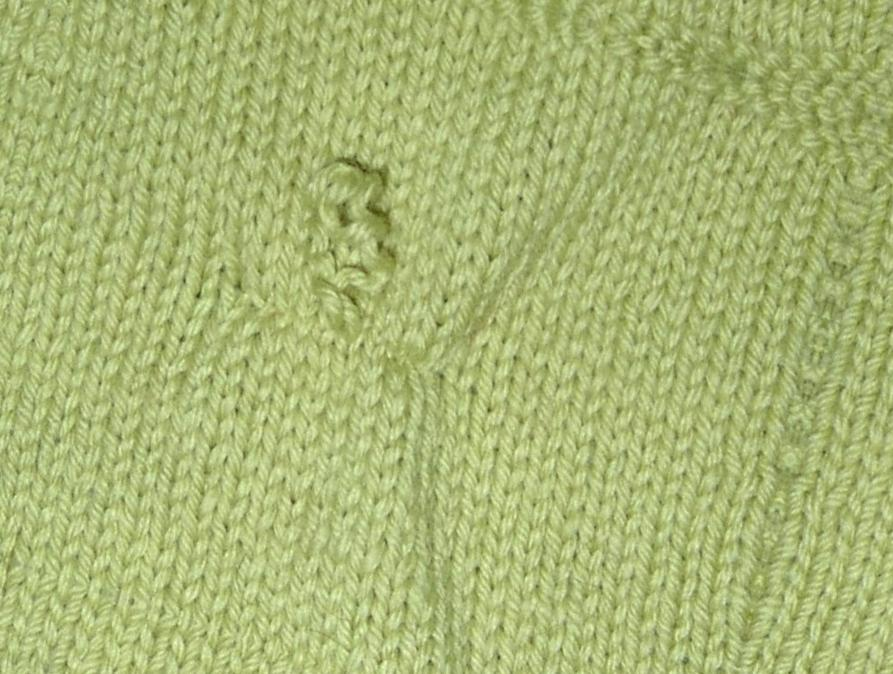knot: (296, 154, 407, 345)
